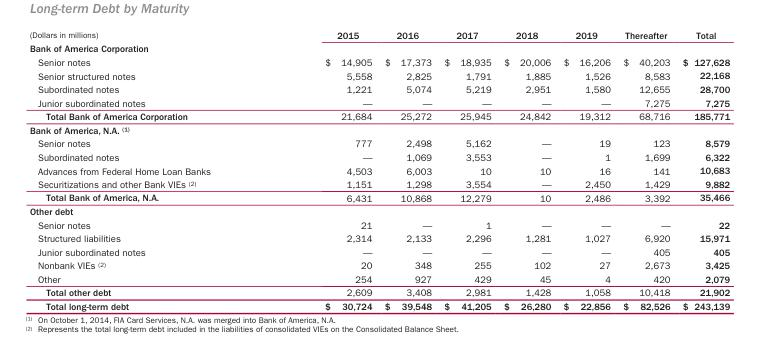table: (28, 28, 729, 311)
table column: (28, 28, 267, 311), (267, 28, 377, 311), (377, 28, 437, 311), (496, 28, 556, 311), (556, 28, 616, 311), (437, 28, 496, 311), (616, 28, 675, 311), (675, 28, 729, 311)
table column header: (28, 28, 729, 41)
table projected row header: (28, 122, 729, 136), (28, 41, 729, 54), (28, 204, 729, 217)
table row: (28, 54, 729, 68), (28, 68, 729, 82), (28, 95, 729, 109), (28, 122, 729, 136), (28, 149, 729, 163), (28, 176, 729, 190), (28, 190, 729, 204), (28, 217, 729, 231), (28, 244, 729, 258), (28, 271, 729, 285), (28, 28, 729, 41), (28, 41, 729, 54), (28, 82, 729, 95), (28, 109, 729, 122), (28, 136, 729, 149), (28, 163, 729, 176), (28, 204, 729, 217), (28, 231, 729, 244), (28, 258, 729, 271), (28, 285, 729, 298), (28, 298, 729, 311)
